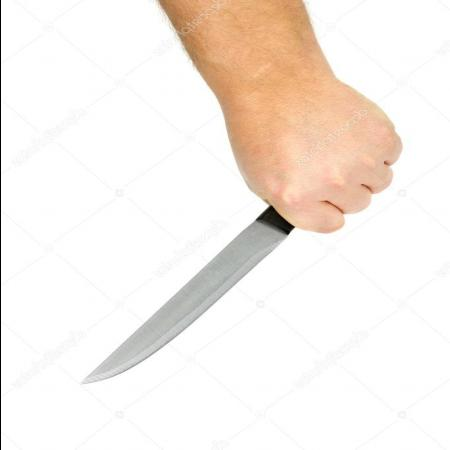long weapon: (72, 142, 398, 392)
